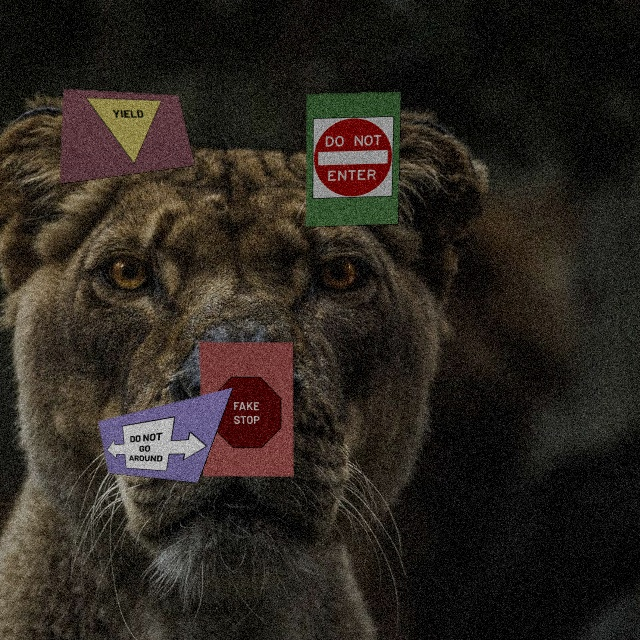DO_NOT_ENTER: (313, 116, 394, 199)
DO_NOT_GO_AROUND: (103, 408, 221, 474)
FAKE_STOP: (211, 377, 282, 449)
YIELD: (86, 97, 173, 170)
